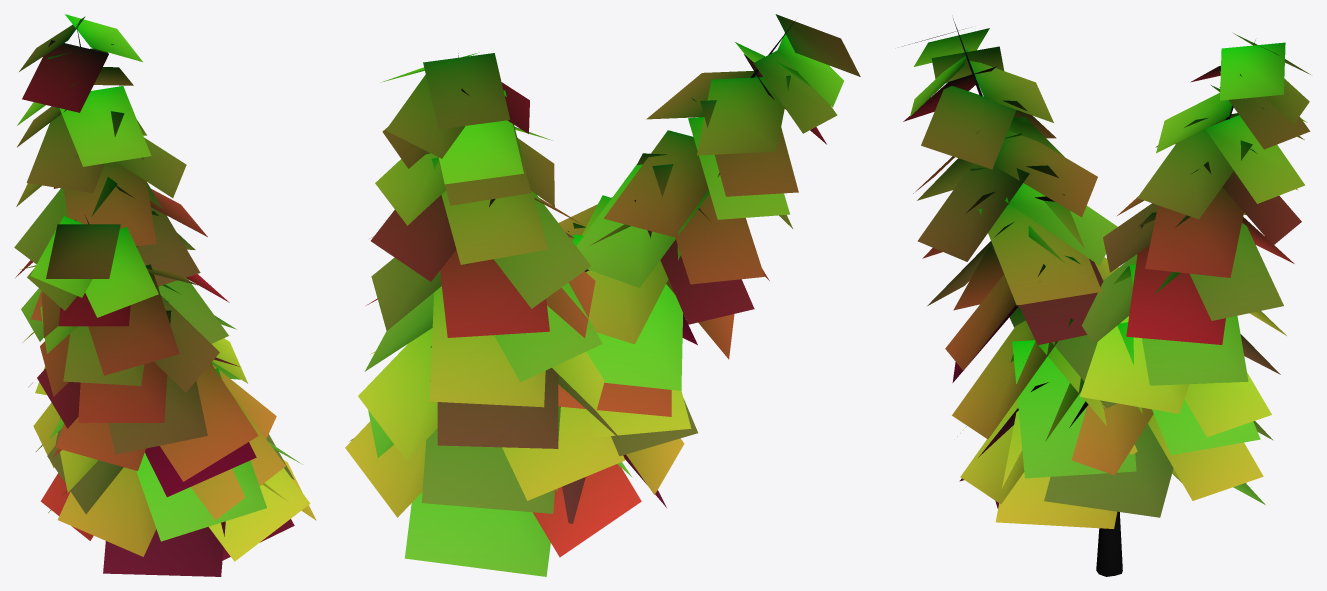
Rendered from Tree_9.fbx.
3 views of the same model, side by side, from view 1: azimuth 30°, elevation 25°; view 2: azimuth 150°, elevation 25°; view 3: azimuth 270°, elevation 25° (orthographic). The views are drawn at different scales.
Parts seen in each view (by area): view 1: Tree_9; view 2: Tree_9; view 3: Tree_9.
Boxes of the visible parts, x1,y1,x2,y2 form: Tree_9: (14, 14, 316, 576); Tree_9: (345, 14, 860, 576); Tree_9: (902, 18, 1310, 576).
Bounding box in the file's own units: 1095 × 1552 × 1202.
